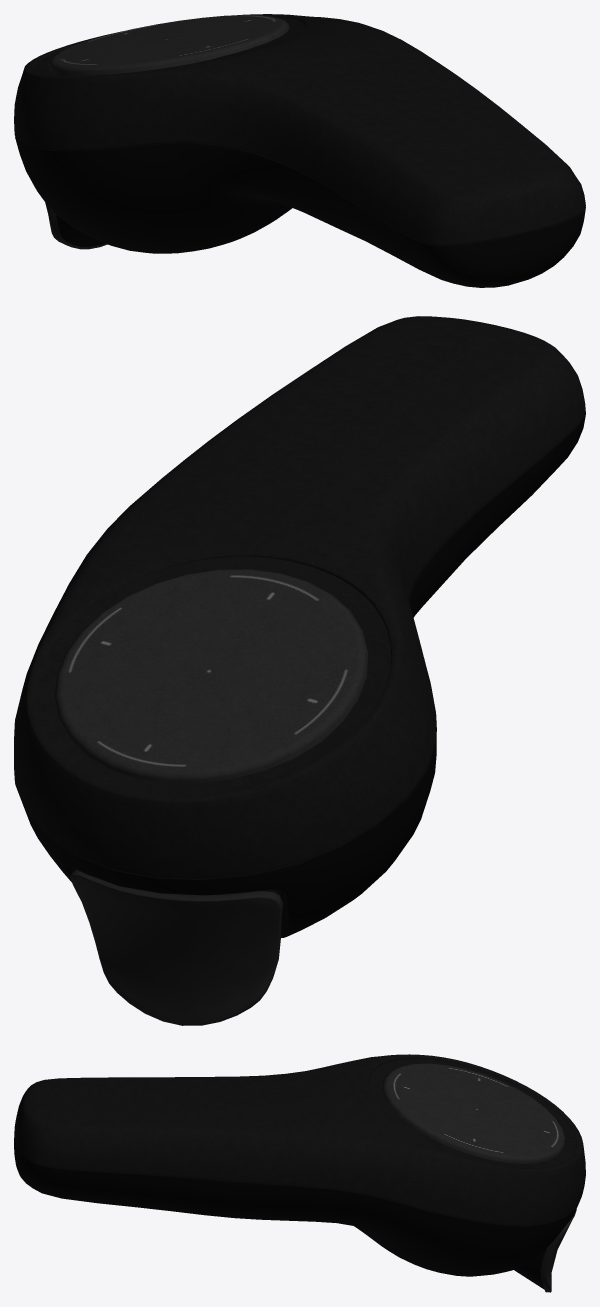
Rendered from generic-trigger-touchpad-R.glb.
The picture shows the model from 3 angles, top to bottom: view 1: azimuth 30°, elevation 25°; view 2: azimuth 150°, elevation 25°; view 3: azimuth 270°, elevation 25°; orthographic projection. The views are drawn at different scales.
Parts seen in each view (by area): view 1: Body, TouchPad, trigger, Plate; view 2: Body, TouchPad, trigger, Plate; view 3: Body, TouchPad, Plate, trigger.
Boxes of the visible parts, x1,y1,x2,y2 form: Body: (14,14,585,287); TouchPad: (49,15,289,75); trigger: (45,203,107,249); Plate: (33,17,304,76); Body: (14,316,585,937); TouchPad: (54,569,368,782); trigger: (70,870,282,1025); Plate: (36,556,391,794); Body: (14,1054,585,1276); TouchPad: (382,1063,565,1163); Plate: (369,1058,576,1168); trigger: (514,1209,576,1292).
Size of the model in its own units: 0.065 by 0.056 by 0.1319.
Materials: 1 (1 with a texture image).
